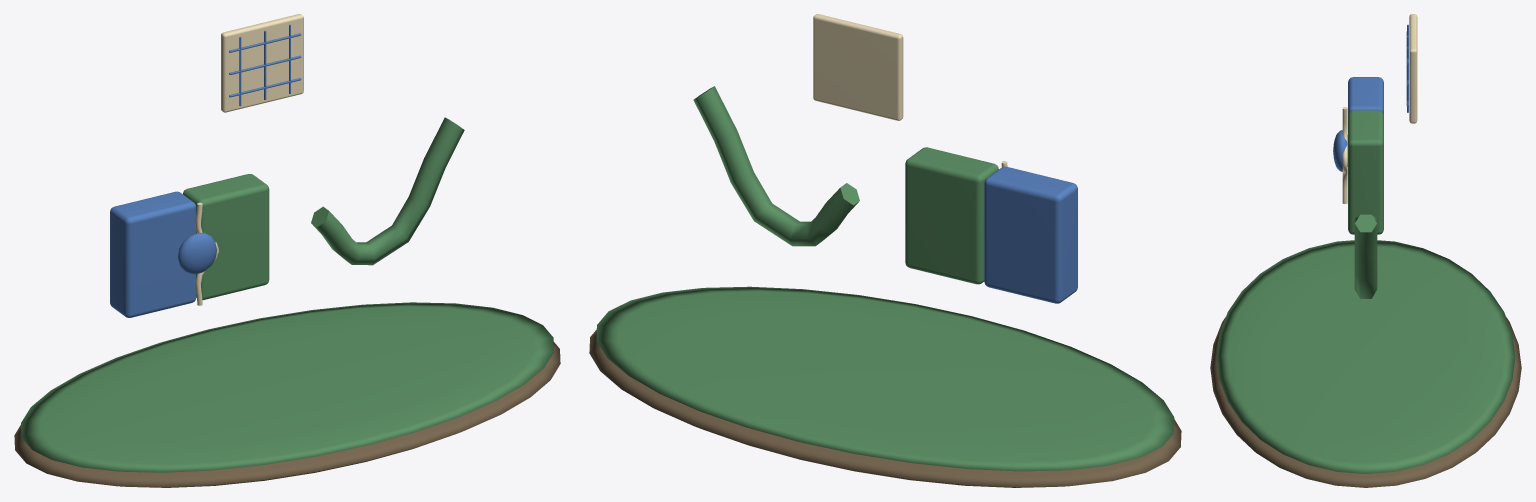
The model's file is complete-third-fitting-fit.glb.
3 views of the same model, side by side, from view 1: azimuth 30°, elevation 25°; view 2: azimuth 150°, elevation 25°; view 3: azimuth 270°, elevation 25° (orthographic). The views are drawn at different scales.
Visible parts, largest first — view 1: complete-third-fitting-fit_surface_01, complete-third-fitting-fit_surface_02, complete-third-fitting-fit_surface_00, complete-third-fitting-fit_surface_03; view 2: complete-third-fitting-fit_surface_01, complete-third-fitting-fit_surface_02, complete-third-fitting-fit_surface_00, complete-third-fitting-fit_surface_03; view 3: complete-third-fitting-fit_surface_01, complete-third-fitting-fit_surface_00, complete-third-fitting-fit_surface_02, complete-third-fitting-fit_surface_03.
Part boxes in pixels (x1,y1,x2,y2): complete-third-fitting-fit_surface_01: [21, 117, 553, 472]; complete-third-fitting-fit_surface_02: [110, 24, 301, 317]; complete-third-fitting-fit_surface_00: [14, 342, 560, 487]; complete-third-fitting-fit_surface_03: [195, 14, 303, 305]; complete-third-fitting-fit_surface_01: [596, 86, 1174, 471]; complete-third-fitting-fit_surface_02: [984, 166, 1077, 303]; complete-third-fitting-fit_surface_00: [589, 330, 1181, 487]; complete-third-fitting-fit_surface_03: [813, 14, 1007, 166]; complete-third-fitting-fit_surface_01: [1216, 110, 1515, 473]; complete-third-fitting-fit_surface_00: [1210, 317, 1521, 487]; complete-third-fitting-fit_surface_02: [1333, 24, 1408, 171]; complete-third-fitting-fit_surface_03: [1342, 14, 1417, 203].
Size of the model in its own units: 4.56 by 3.11 by 2.5.
